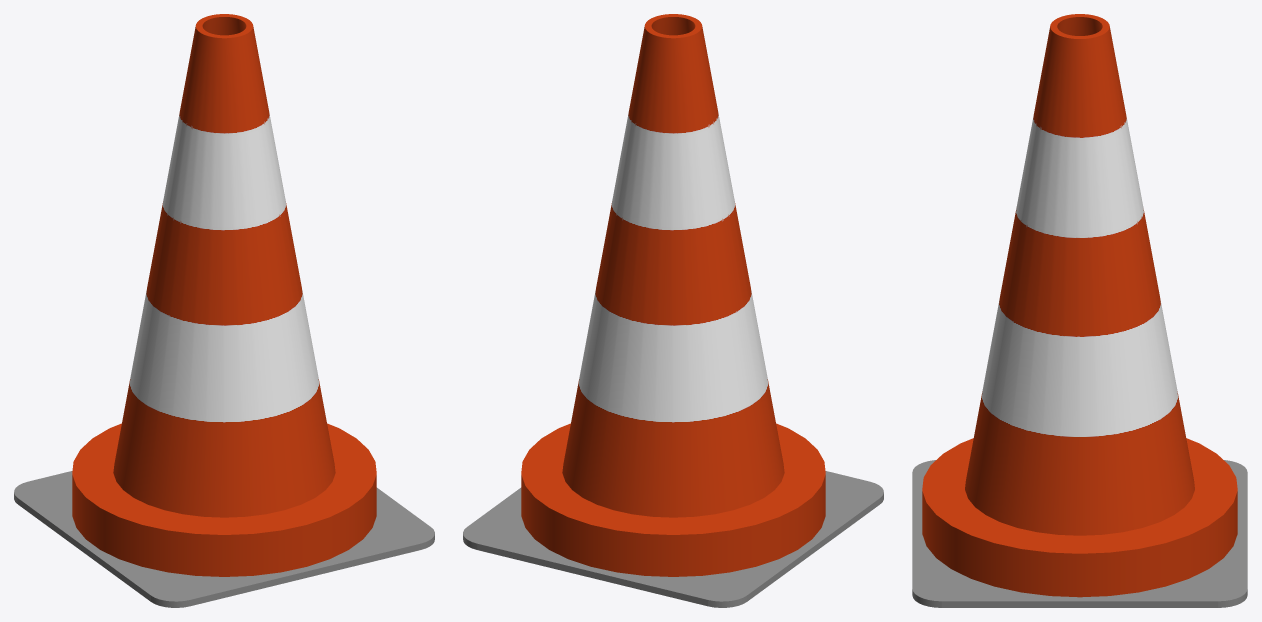
Rendered from pylon.FBX.
3 renders of one model, left to right at view 1: azimuth 30°, elevation 25°; view 2: azimuth 150°, elevation 25°; view 3: azimuth 270°, elevation 25°, orthographic. The views are drawn at different scales.
Visible parts, largest first — view 1: cone, basement; view 2: cone, basement; view 3: cone, basement.
Boxes of the visible parts, x1,y1,x2,y2 form: cone: (72, 14, 376, 576); basement: (14, 471, 434, 607); cone: (521, 14, 825, 576); basement: (463, 471, 883, 607); cone: (922, 14, 1237, 597); basement: (912, 460, 1247, 607).
Size of the model in its own units: 44.57 by 74.95 by 44.57.
Materials: 2 (1 with a texture image).
